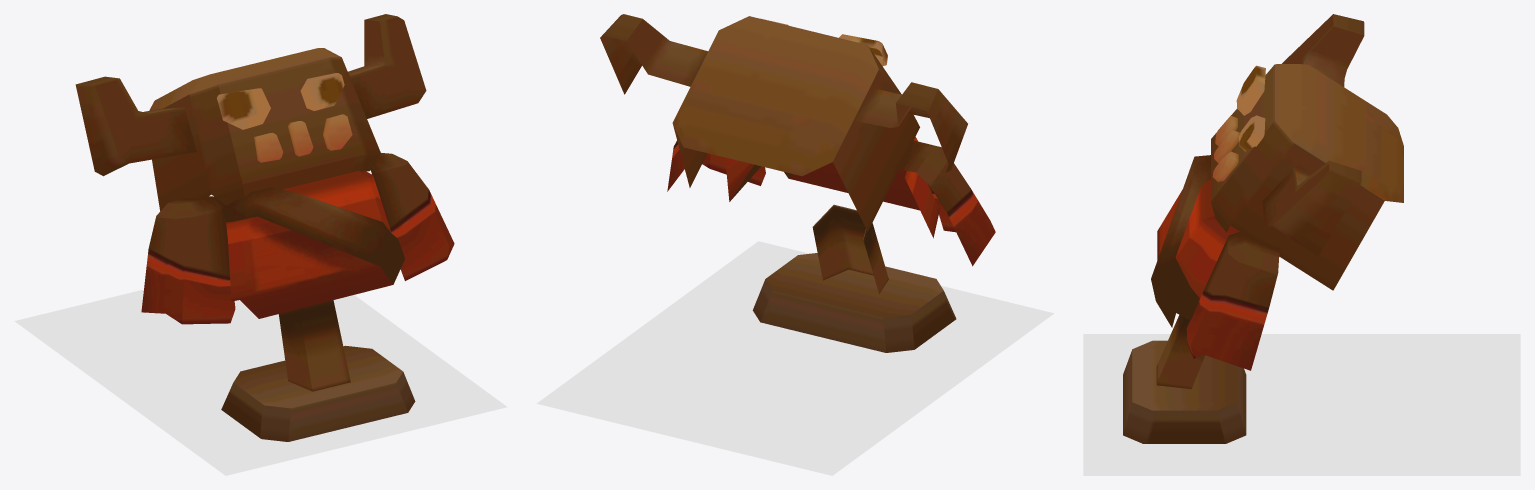
File: scarecrow.earth.fbx
3 views of the same model, side by side, from view 1: azimuth 30°, elevation 25°; view 2: azimuth 150°, elevation 25°; view 3: azimuth 270°, elevation 25° (orthographic). The views are drawn at different scales.
Visible parts, largest first — view 1: bone, shadow; view 2: bone, shadow; view 3: bone, shadow.
Part boxes in pixels (bbox=[...]): bone: bbox=[75, 14, 454, 441]; shadow: bbox=[14, 289, 507, 475]; bone: bbox=[600, 14, 995, 352]; shadow: bbox=[536, 241, 1053, 475]; bone: bbox=[1123, 14, 1403, 443]; shadow: bbox=[1083, 334, 1520, 475].
Size of the model in its own units: 1.03 by 0.9747 by 1.2.
2 materials, 2 textured.
